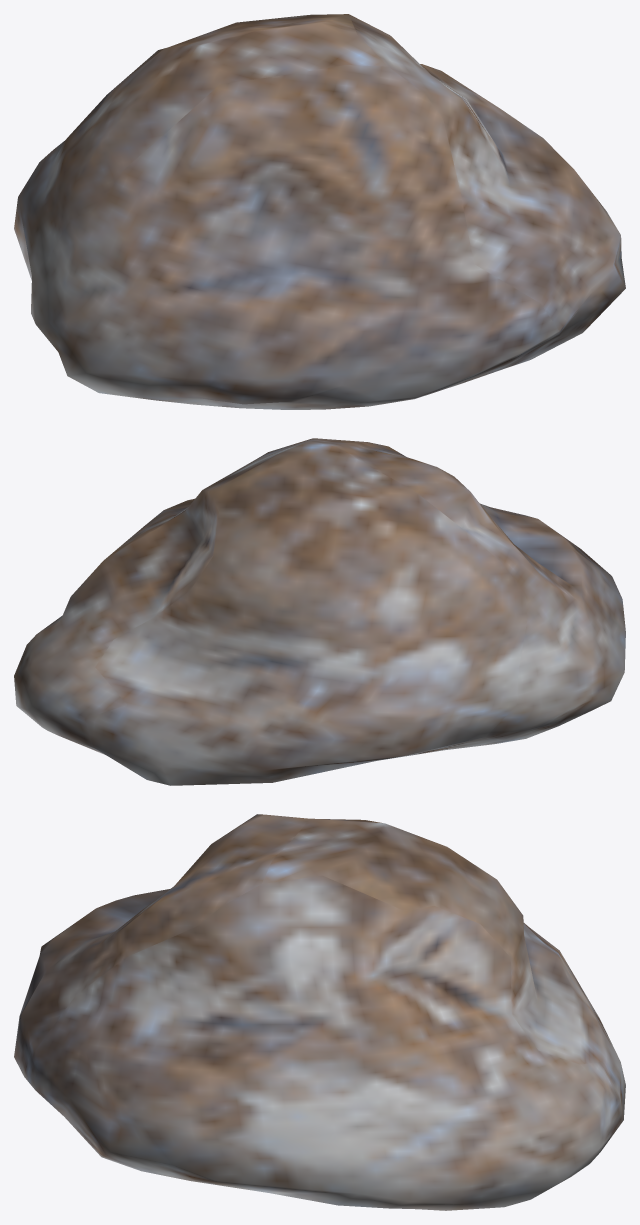
The model's file is sb_obj_nature006_Stone02b.fbx.
3 renders of one model, top to bottom at view 1: azimuth 30°, elevation 25°; view 2: azimuth 150°, elevation 25°; view 3: azimuth 270°, elevation 25°, orthographic. The views are drawn at different scales.
Visible parts, largest first — view 1: sb_obj_nature006_Stone02b; view 2: sb_obj_nature006_Stone02b; view 3: sb_obj_nature006_Stone02b.
Part boxes in pixels (left/top/right/bottom): sb_obj_nature006_Stone02b: left=14, top=14, right=625, bottom=409; sb_obj_nature006_Stone02b: left=14, top=438, right=625, bottom=785; sb_obj_nature006_Stone02b: left=14, top=814, right=625, bottom=1210.
Bounding box in the file's own units: 0.6374 × 0.3119 × 0.6467.
